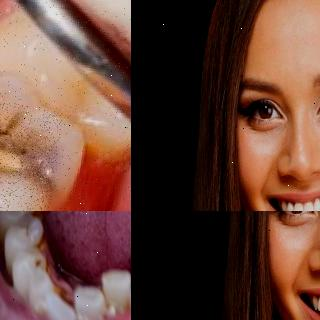cavities: (0, 110, 68, 211)
maligned: (74, 279, 110, 320), (100, 260, 128, 311), (284, 201, 296, 211), (314, 296, 320, 315)
stains: (53, 288, 75, 314), (32, 251, 54, 275), (38, 276, 66, 292), (30, 224, 46, 251), (28, 211, 44, 225)
